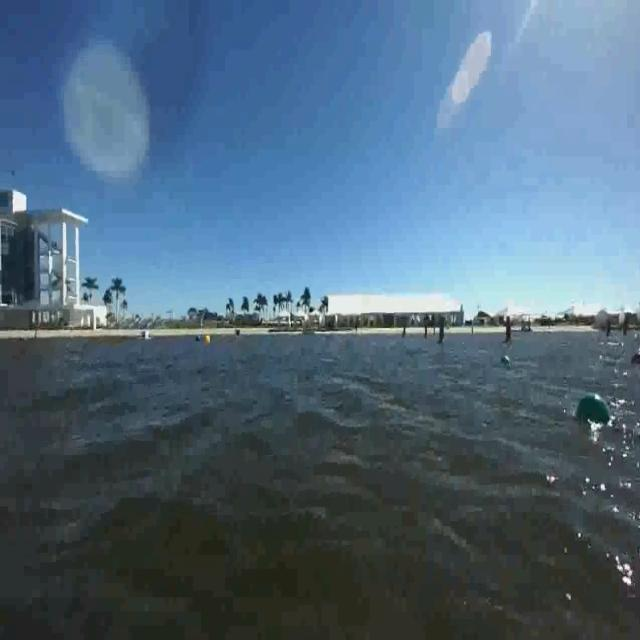green-buoy: (578, 395, 611, 428)
